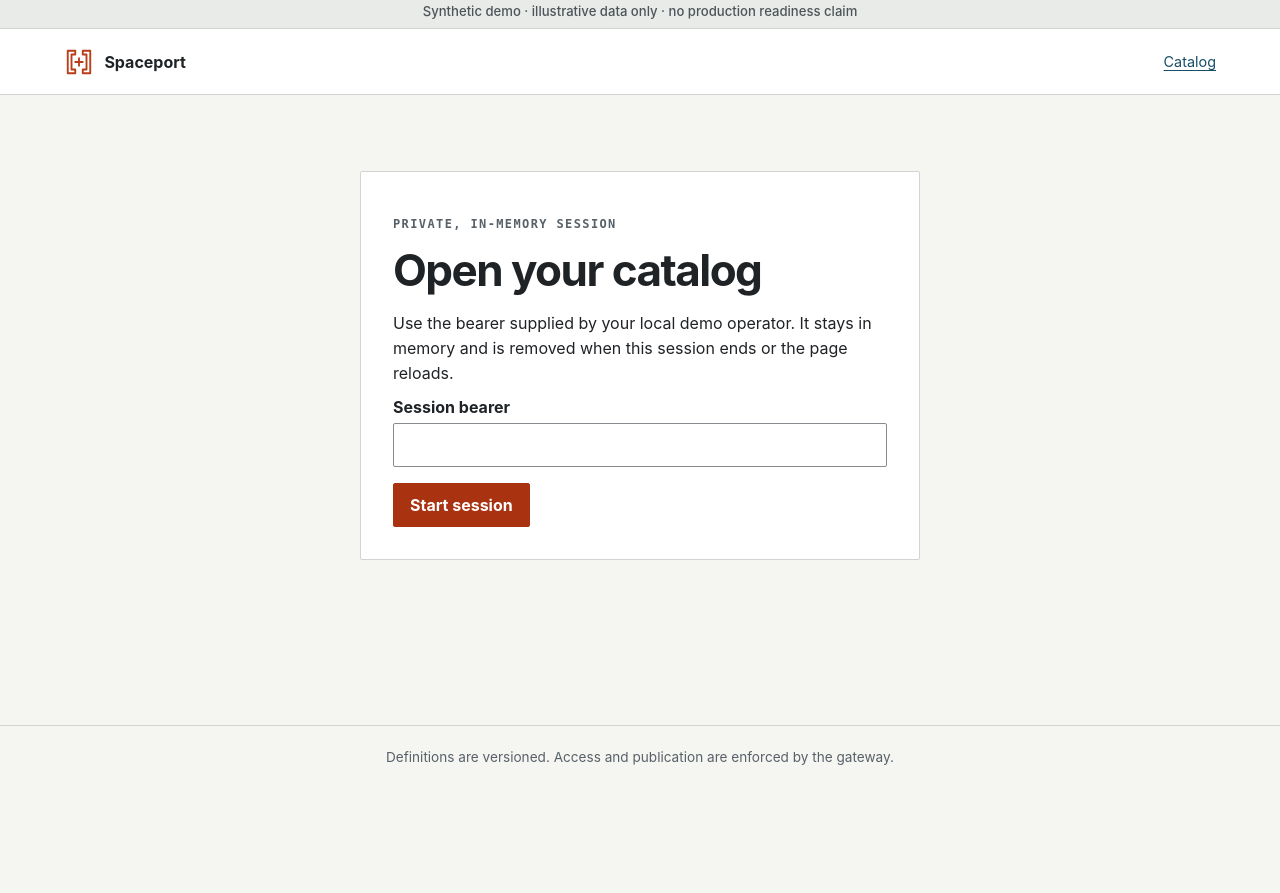
it: never turns unknown freshness into a fresh badge or inferred watermark
Type "synthetic-test" into the password field labelled "Session bearer" at (640, 445), box [393,423,887,467]
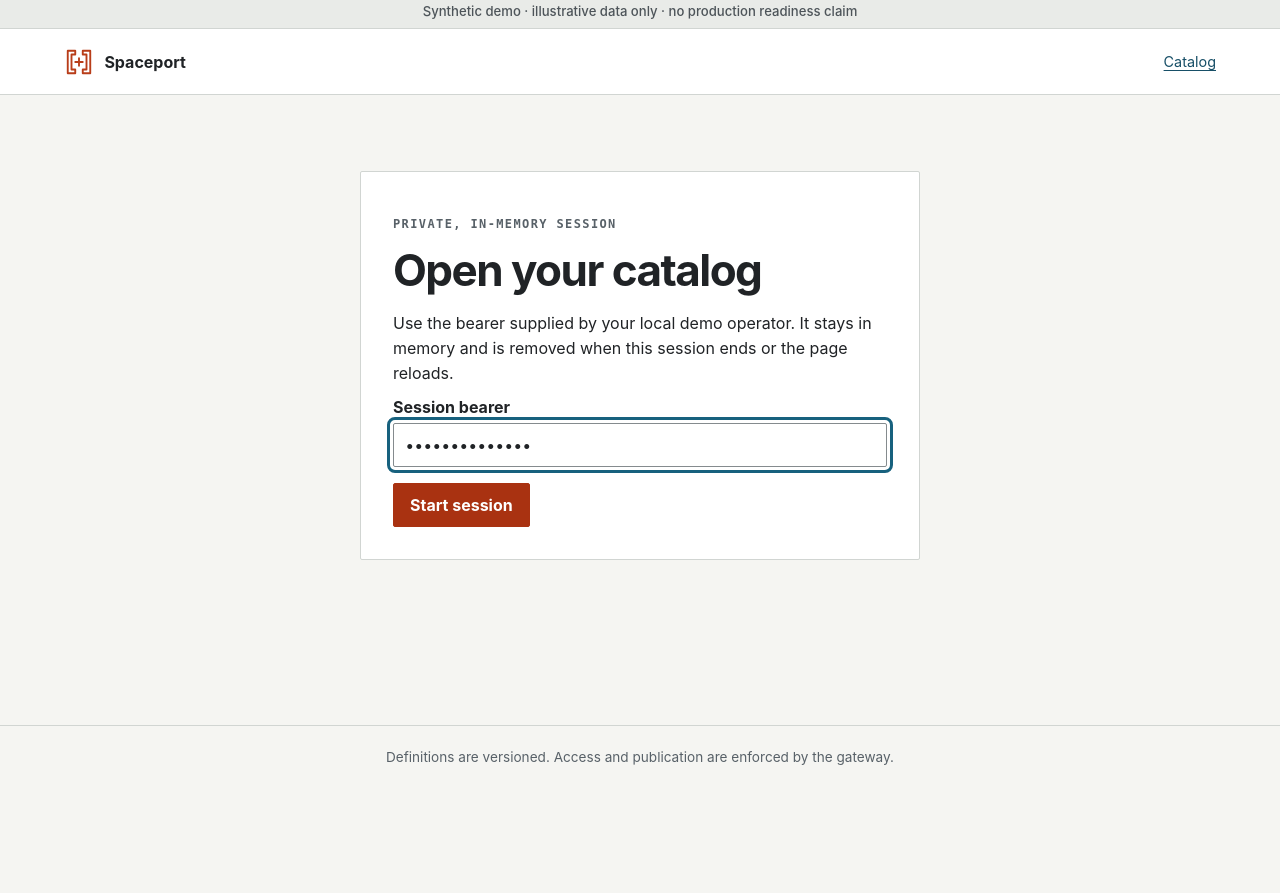
Click the button "Start session" at (461, 505), box [393,483,530,527]
(page scrolled)
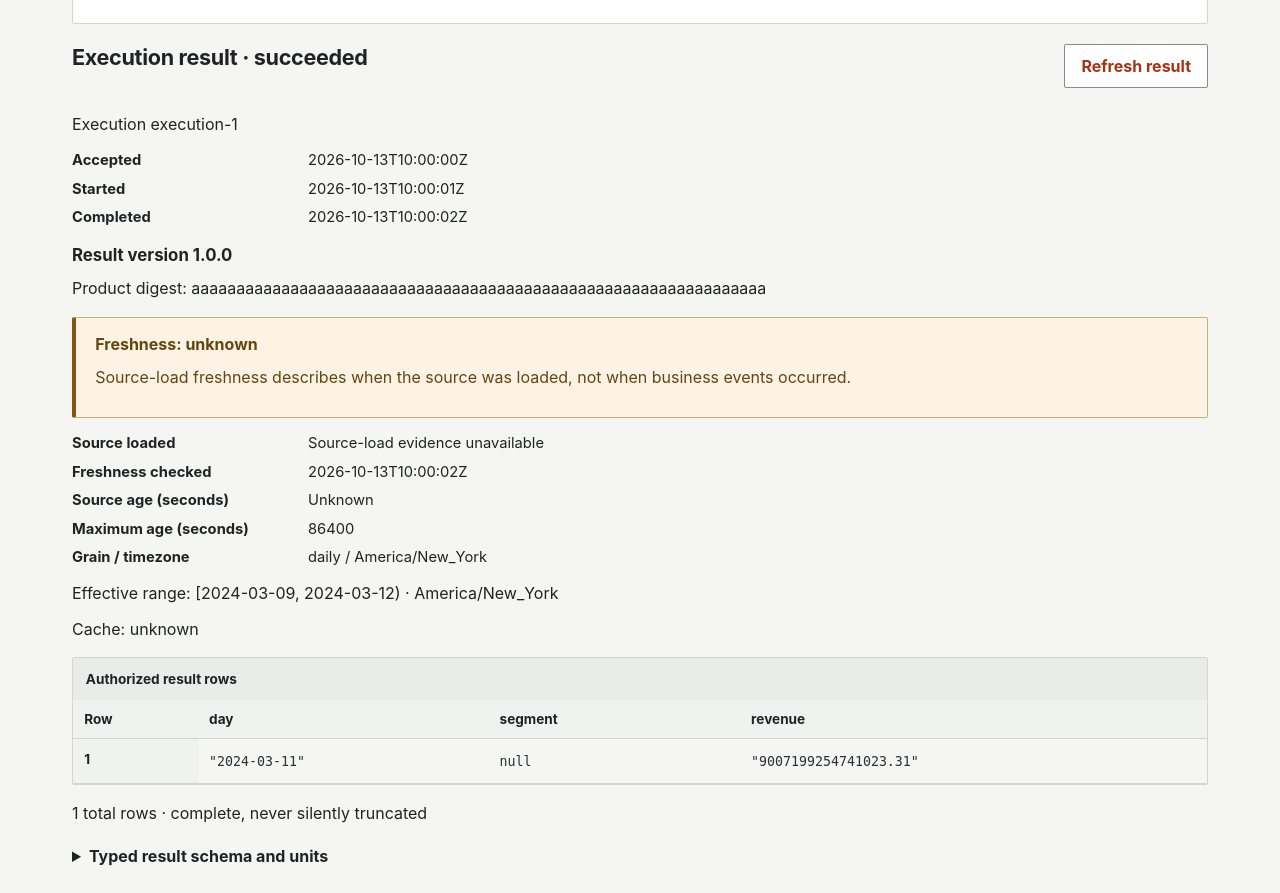
Check: the text "Freshness: unknown" is shown, box [95,334,258,354]
Check: the text "Source-load evidence unavailable" is shown, box [308,434,544,452]
